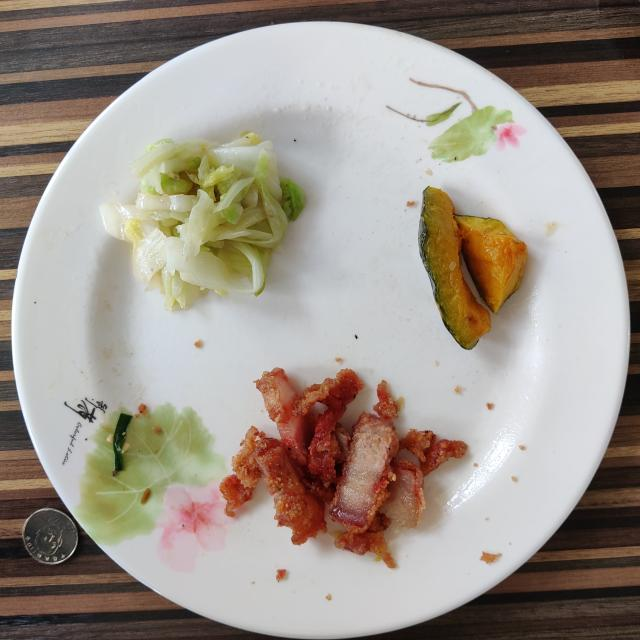cabbage: (100, 131, 305, 310)
coin: (22, 509, 78, 565)
pumpkin: (419, 186, 528, 349)
red grilled pork: (220, 368, 468, 568)
